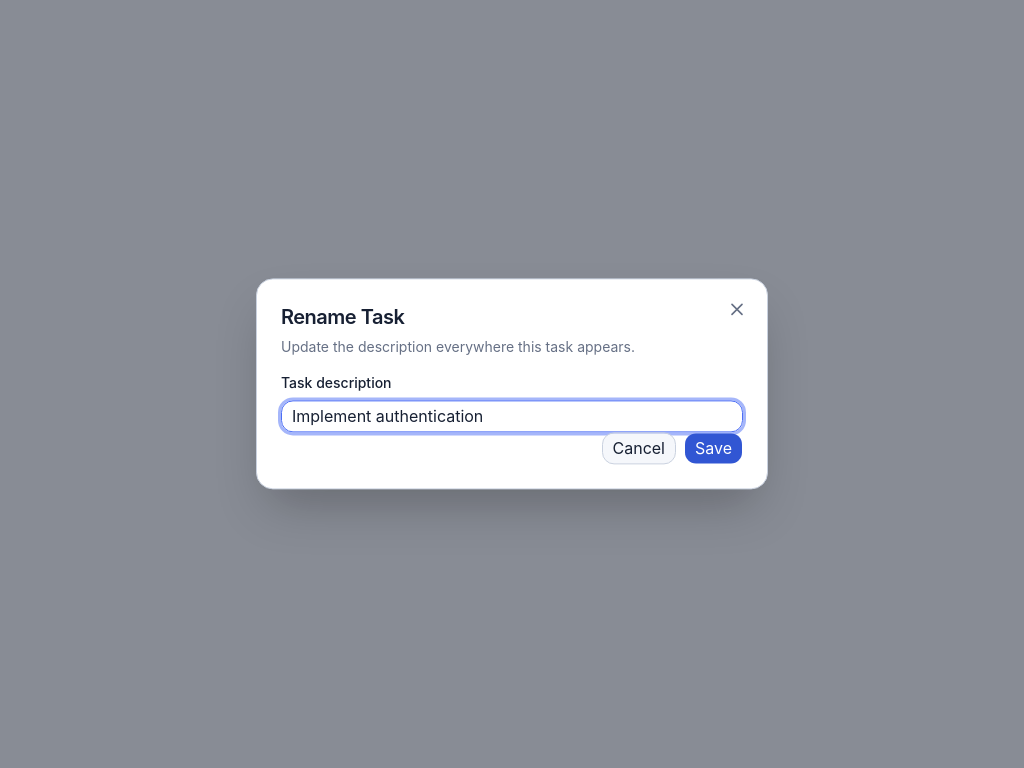
Test: RenameTaskDialog › keeps the entered value and dialog open after a controlled collision
Step 1. Replace the text in the field labelled "Task description" with "Existing task" → (512, 417), box [281,401,743,433]
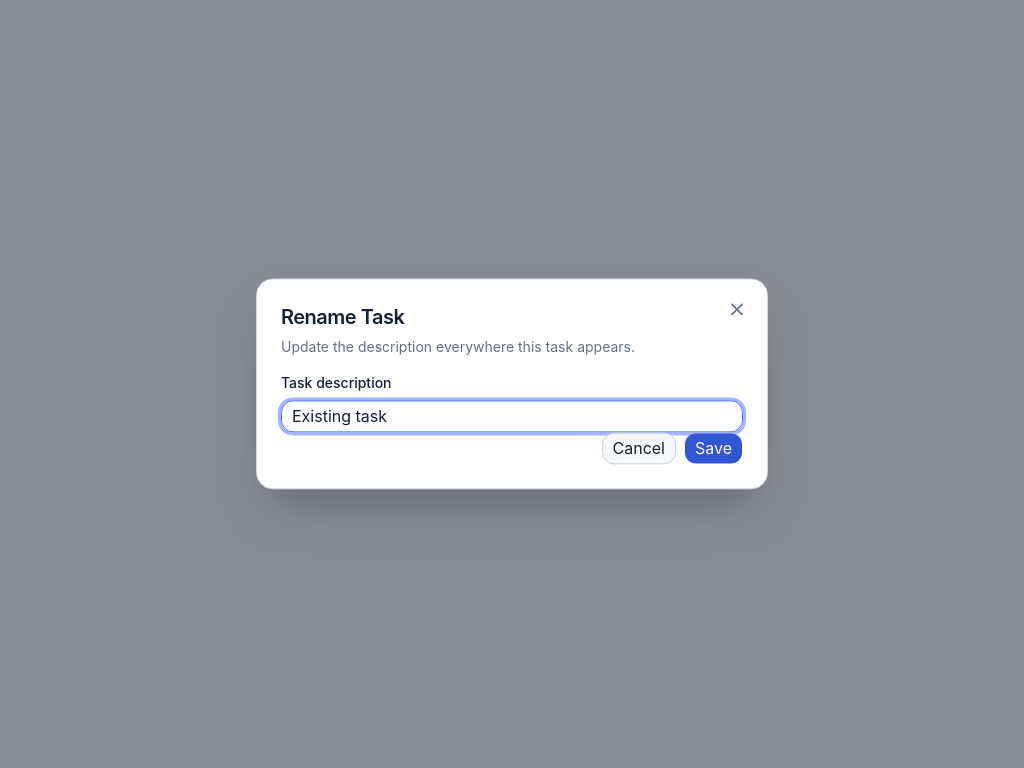
Step 2. Click the button "Save" → (714, 449), box [684,433,743,465]
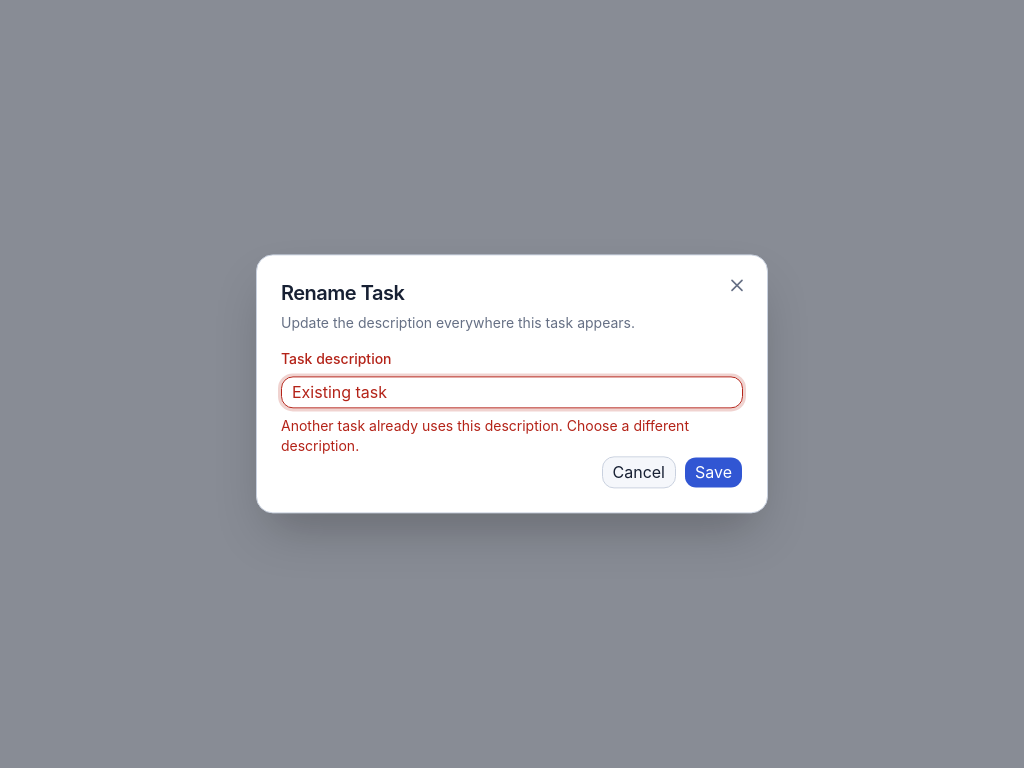
Expected: the dialog "Rename Task" is shown, [256,254,768,514]
Expected: the message shows "Another task already uses this description", [281,418,689,455]
